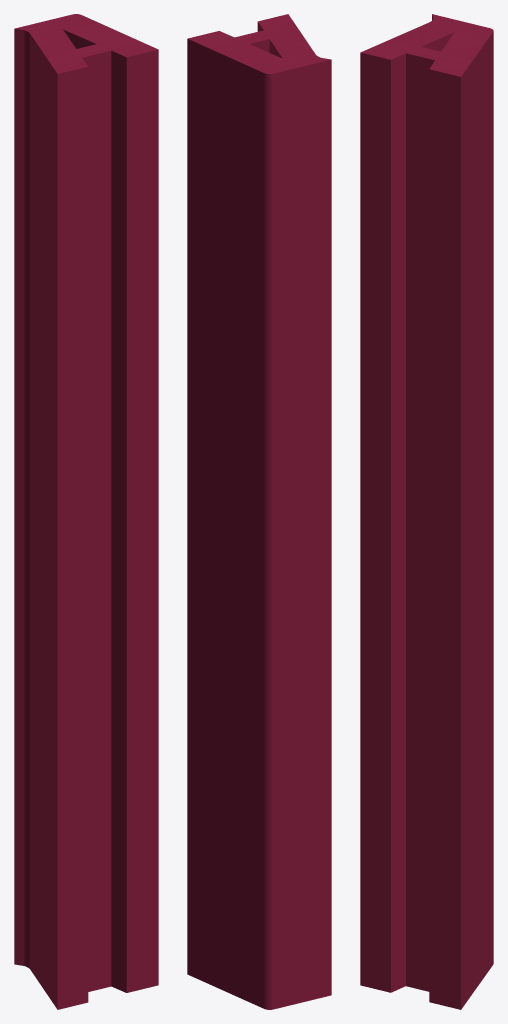
The picture shows the model from 3 angles, left to right: view 1: azimuth 30°, elevation 25°; view 2: azimuth 210°, elevation 25°; view 3: azimuth 330°, elevation 25°; orthographic projection.
Visible parts, largest first — view 1: Curve; view 2: Curve; view 3: Curve.
Part boxes in pixels (left/top/right/bottom): Curve: left=14, top=14, right=158, bottom=1009; Curve: left=187, top=14, right=331, bottom=1009; Curve: left=360, top=14, right=493, bottom=1009.
Bounding box in the file's own units: 5.64 × 50 × 5.57.
